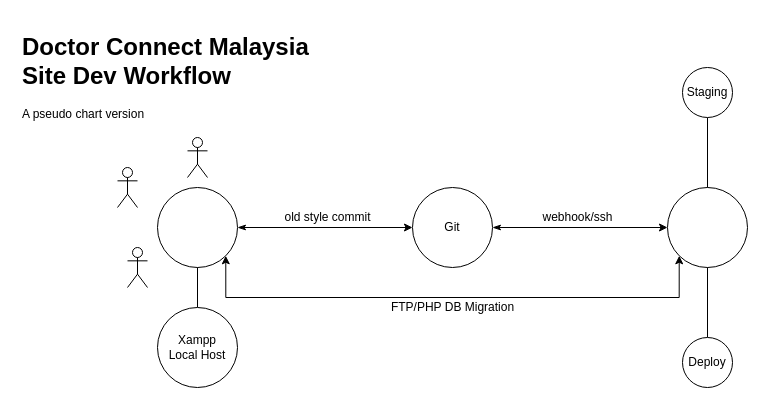
Image size: 765x405. Some labels were removed from this diagram. The shapes that lost their labels are listed below. From the top down, each one's box as (x1, y1, x2, y2) in pixels, then its label:
(156, 186, 238, 268): Local Env
(666, 186, 748, 268): WebHost
